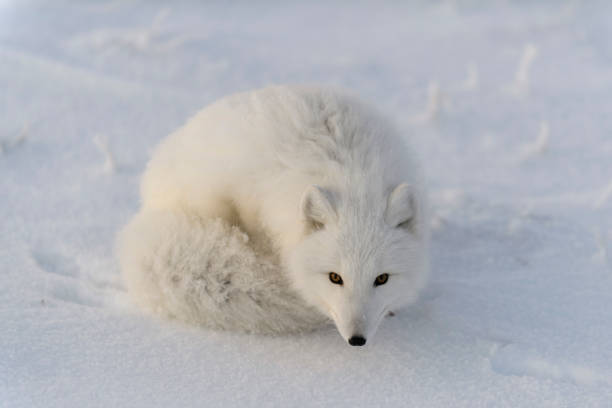arcticfox: (300, 205, 411, 358)
